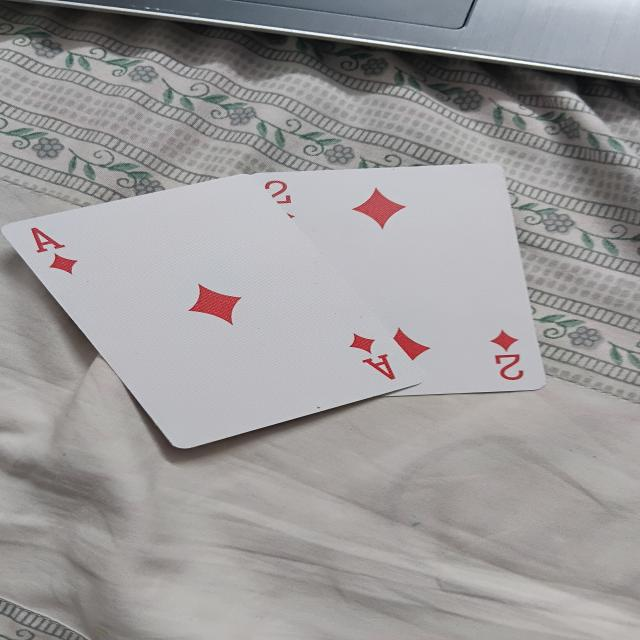2D: (231, 165, 546, 397)
